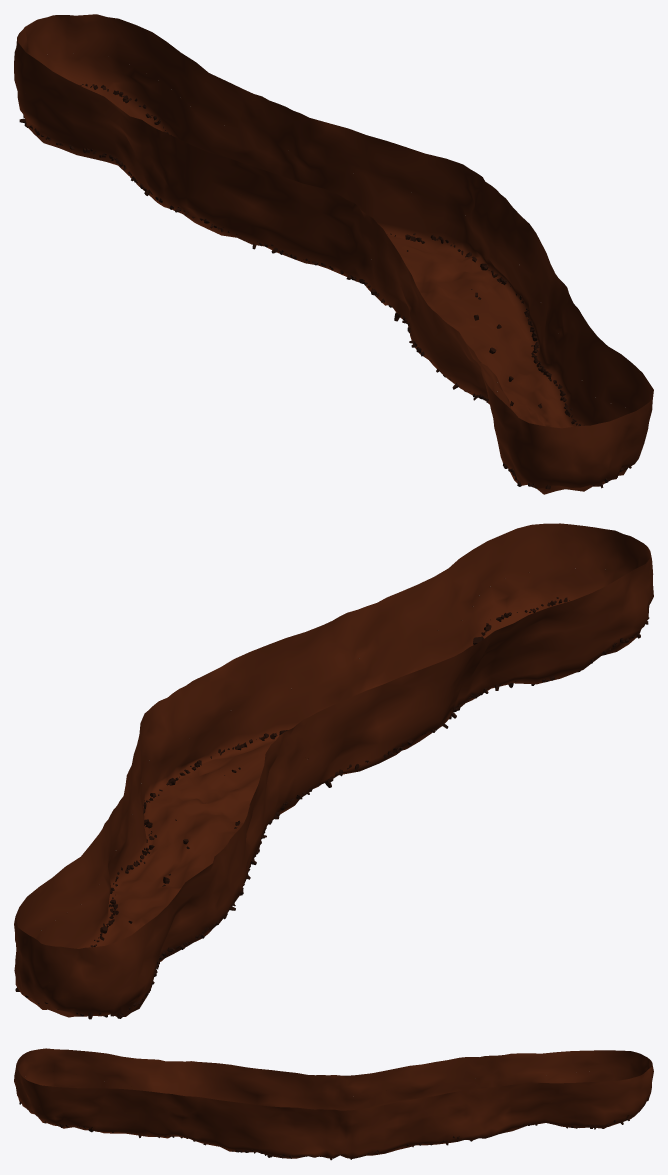
The model's file is LAST MADE CAVE.obj.
3 views of the same model, one above another, from view 1: azimuth 30°, elevation 25°; view 2: azimuth 150°, elevation 25°; view 3: azimuth 270°, elevation 25° (orthographic). The views are drawn at different scales.
Parts seen in each view (by area): view 1: Plane.002, Cube.221_-_copy.001; view 2: Plane.002, Cube.221_-_copy.001; view 3: Plane.002, Cube.221_-_copy.001.
Boxes of the visible parts, box(x1,y1,x2,y2) form: Plane.002: box(14, 14, 653, 494); Cube.221_-_copy.001: box(19, 83, 631, 489); Plane.002: box(14, 523, 653, 1017); Cube.221_-_copy.001: box(15, 597, 649, 1019); Plane.002: box(14, 1048, 653, 1158); Cube.221_-_copy.001: box(19, 1101, 637, 1160).
Bounding box in the file's own units: 61.95 × 26.49 × 272.
